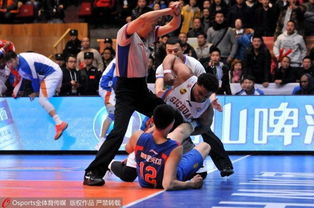10+: (1, 1, 312, 194)
down: (112, 97, 216, 196)
